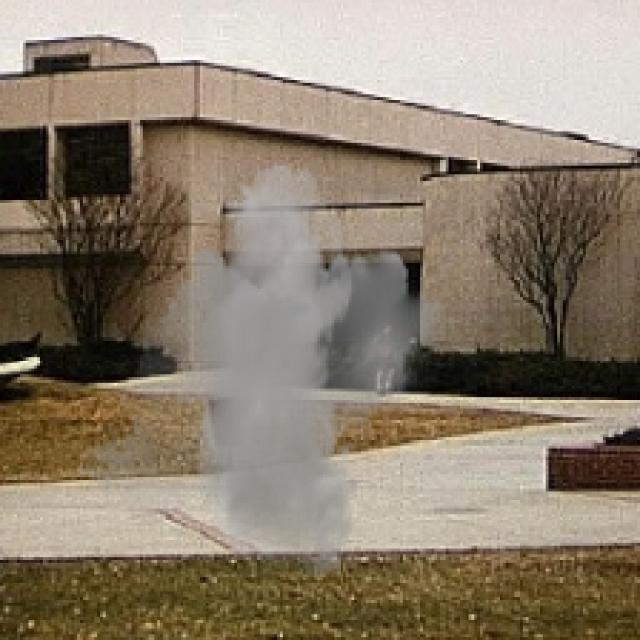smoke: (74, 163, 457, 580)
